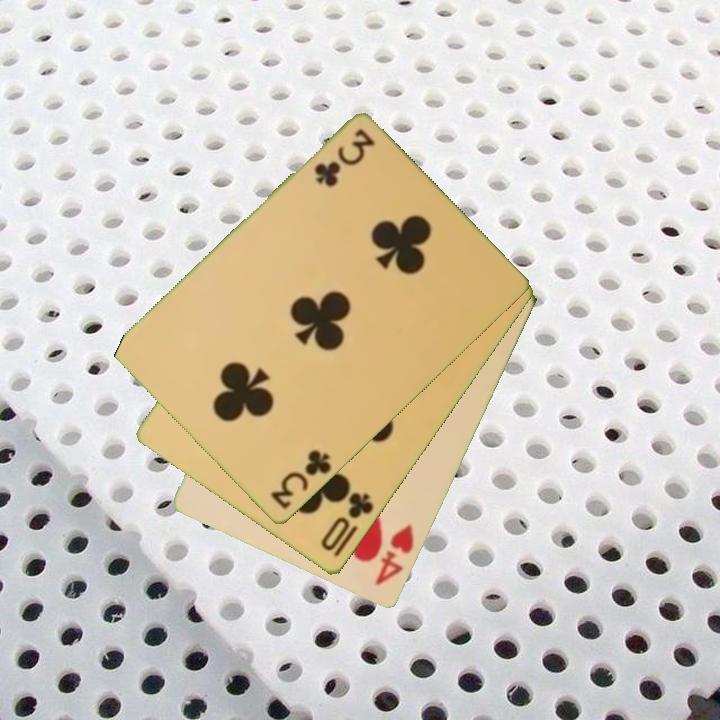10c: (317, 489, 377, 555)
3c: (267, 446, 335, 513), (310, 125, 377, 190)
4h: (371, 521, 417, 590)
